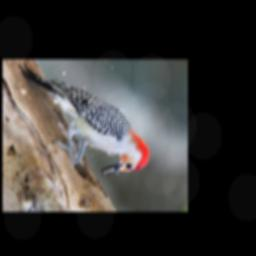Woodpecker: (20, 65, 149, 175)
